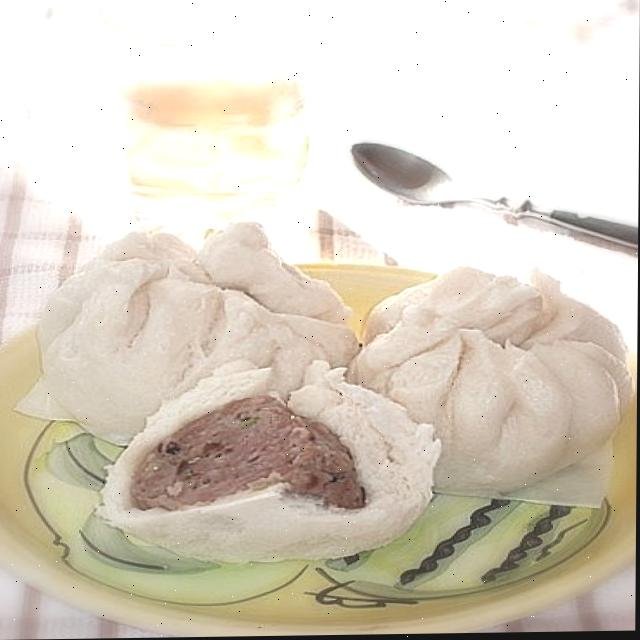带馅早点: (12, 202, 635, 605)
